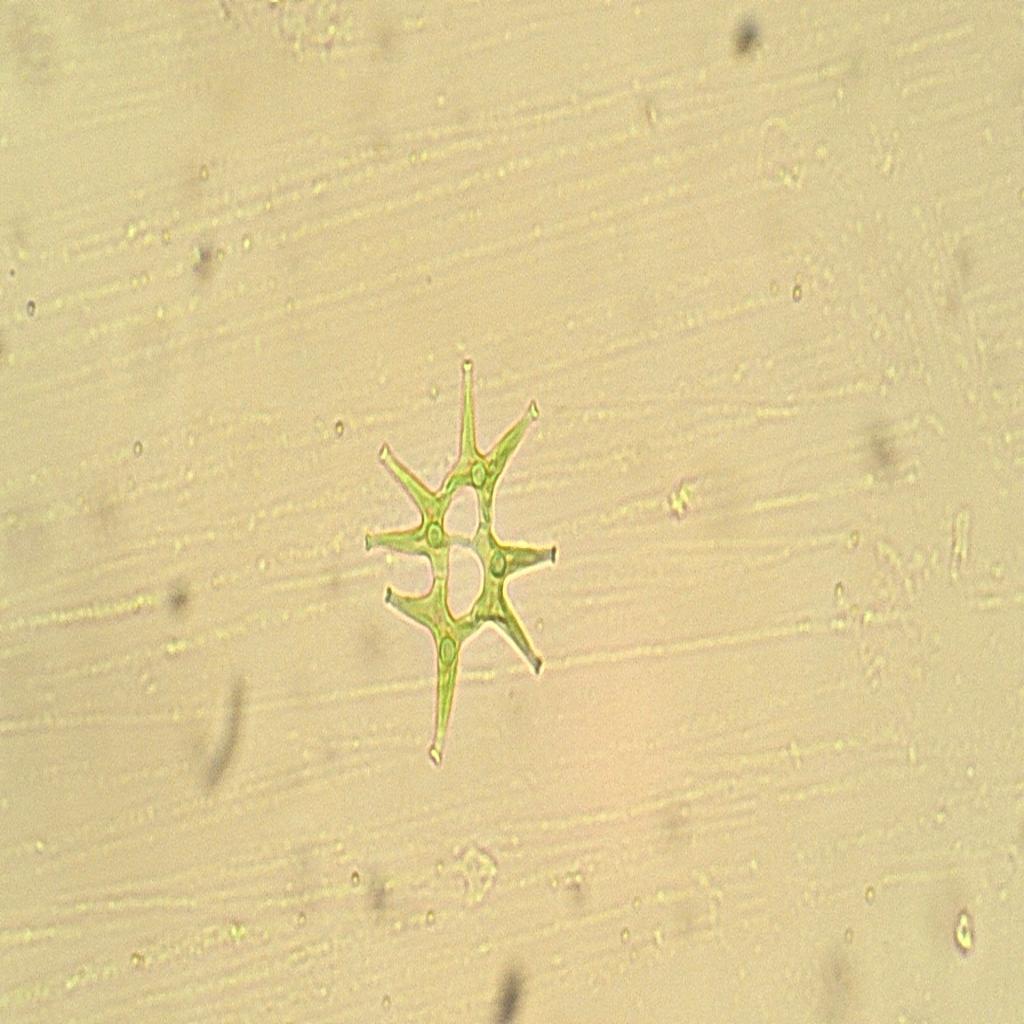Pediastrum_CF: (356, 328, 576, 802)
